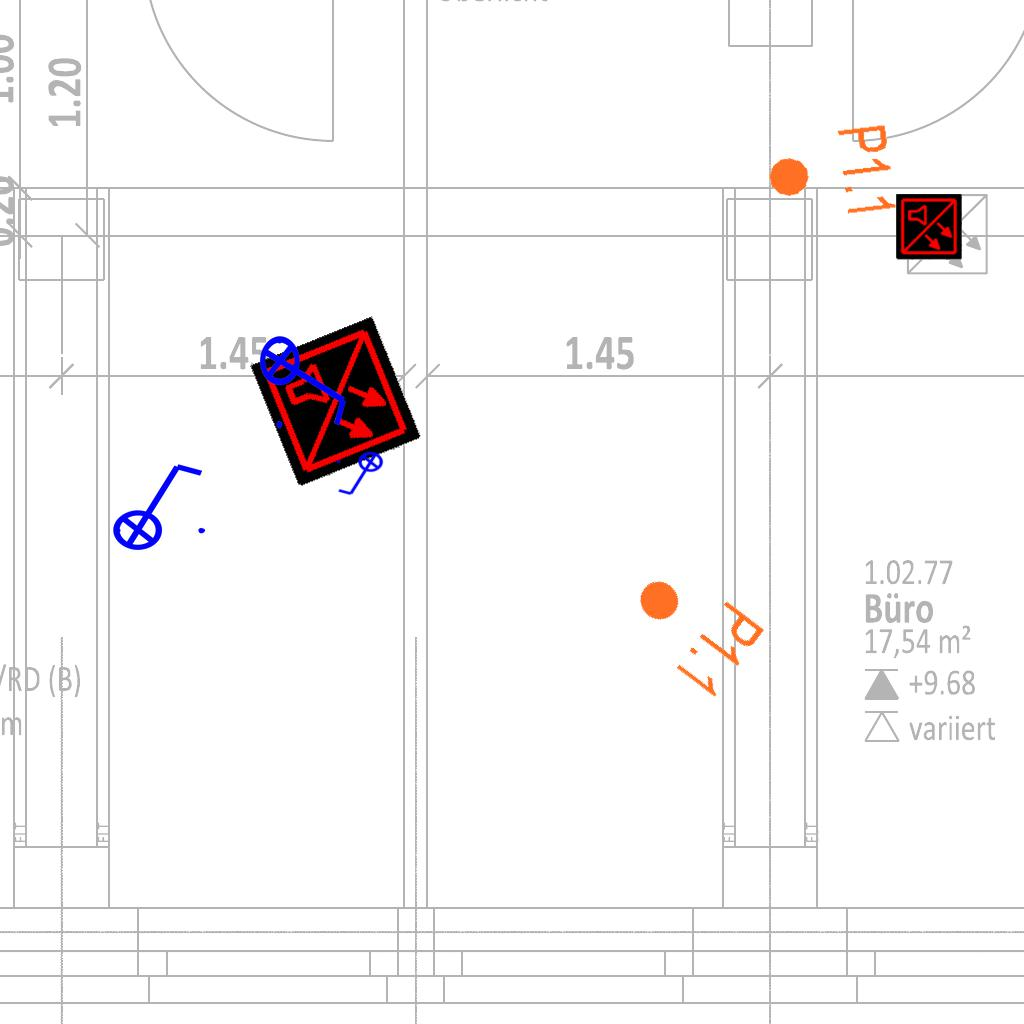Ausschalter_beleuchtet: (99, 456, 211, 552), (258, 322, 354, 434), (334, 451, 390, 499)
Downlight_LED_Einbauleuchten_Flur: (611, 552, 770, 704), (761, 121, 900, 229)
OKW_Multisensormelder_(Kombination_optischer_Rauch-Kahlenmonoxid_Waerme-Melder): (250, 316, 422, 488), (896, 194, 962, 260)
